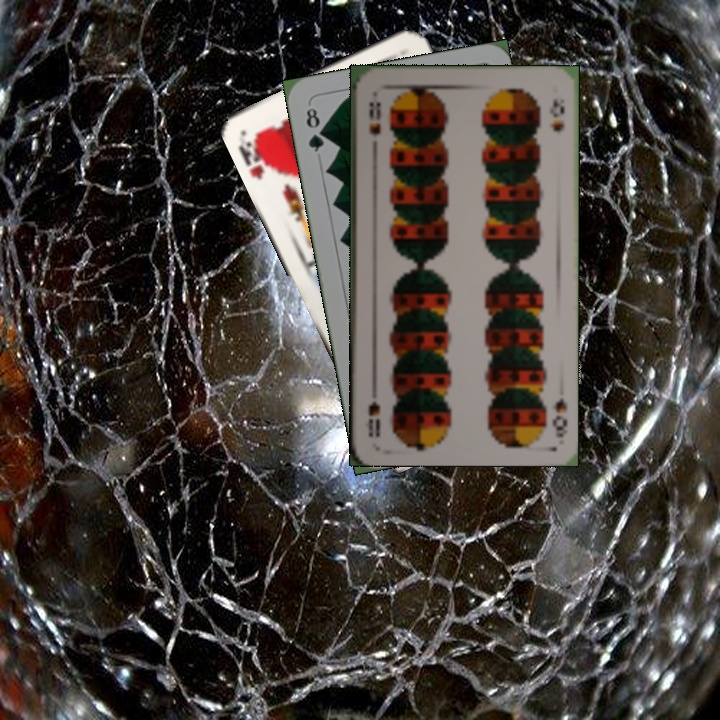G8: (302, 103, 328, 155)
HK: (234, 130, 276, 182)
S8: (548, 394, 570, 440), (364, 98, 383, 139)
